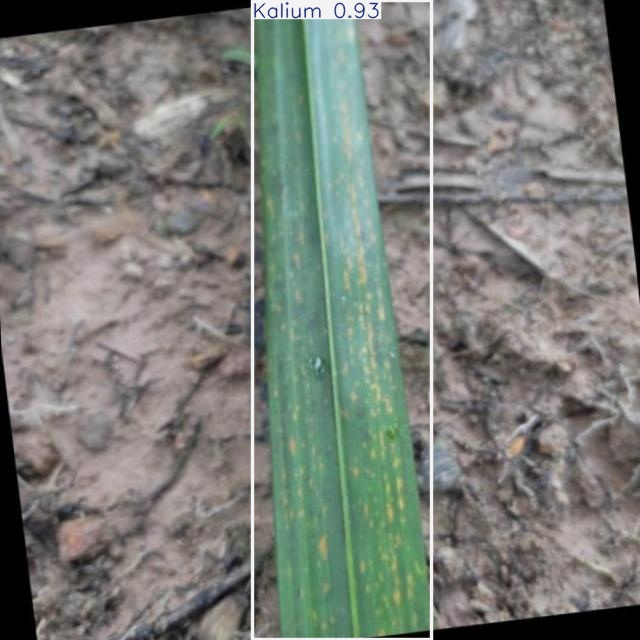Kalium: (252, 1, 432, 640)
